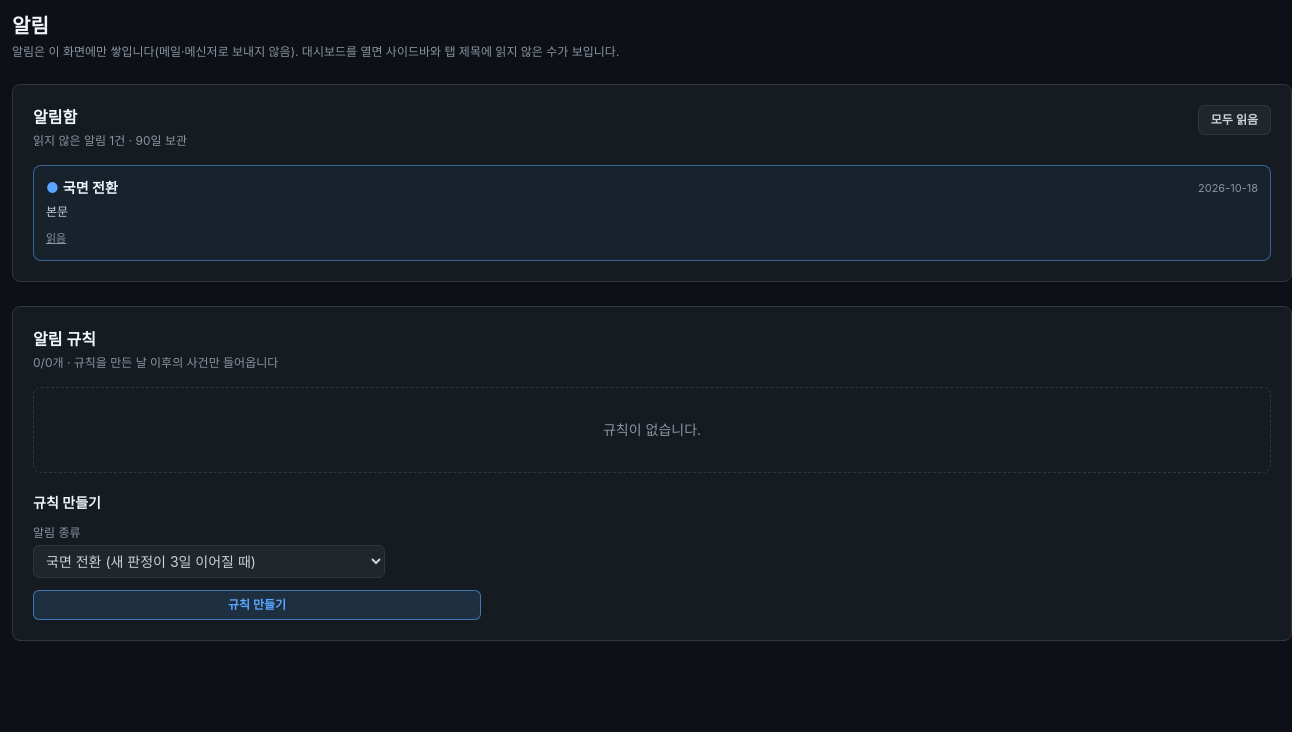
Test: QA-103 첫 조회·버튼 동작이 실패하면 이유를 보인다 › 알림 읽음 처리가 실패하면 알림함에 알린다
The image size is (1292, 732).
Click the button "읽음" at coordinates (56, 238), box x1=46 y1=230 x2=66 y2=246
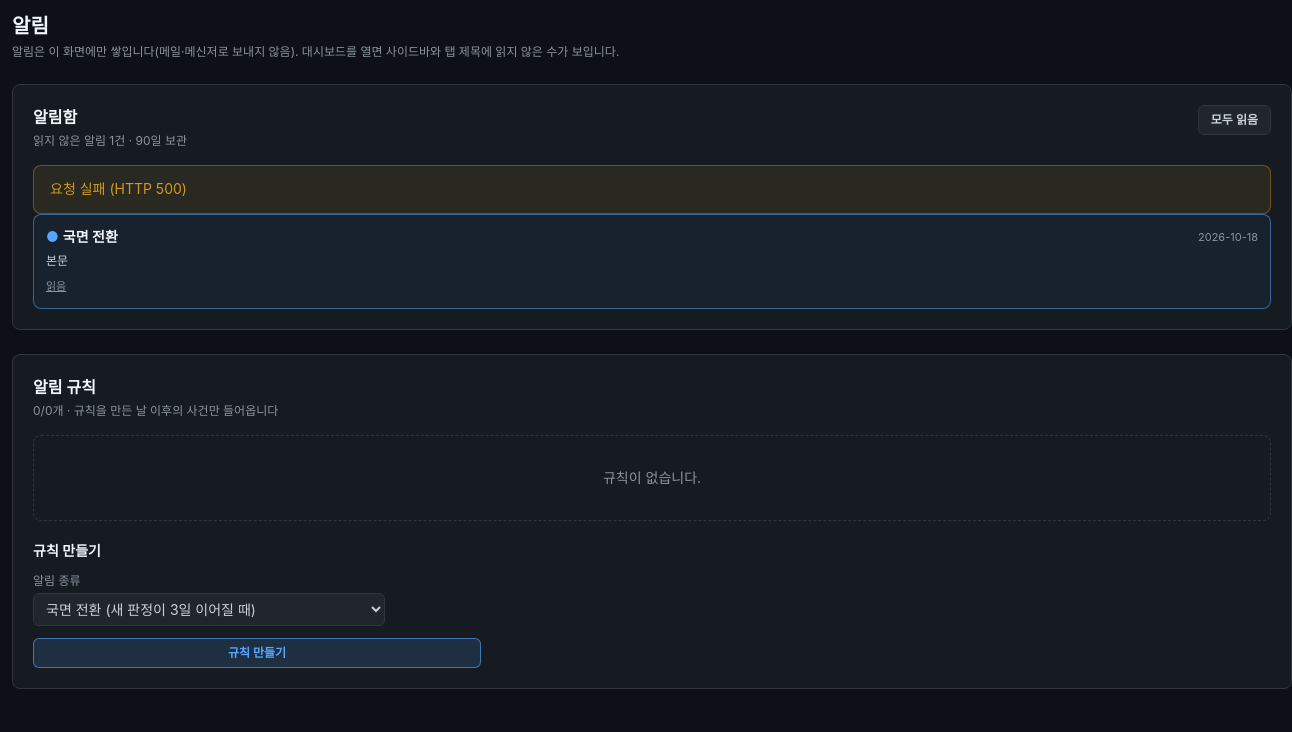
expect the text "요청 실패 (HTTP 500)" is shown: met, box x1=33 y1=165 x2=1271 y2=214
